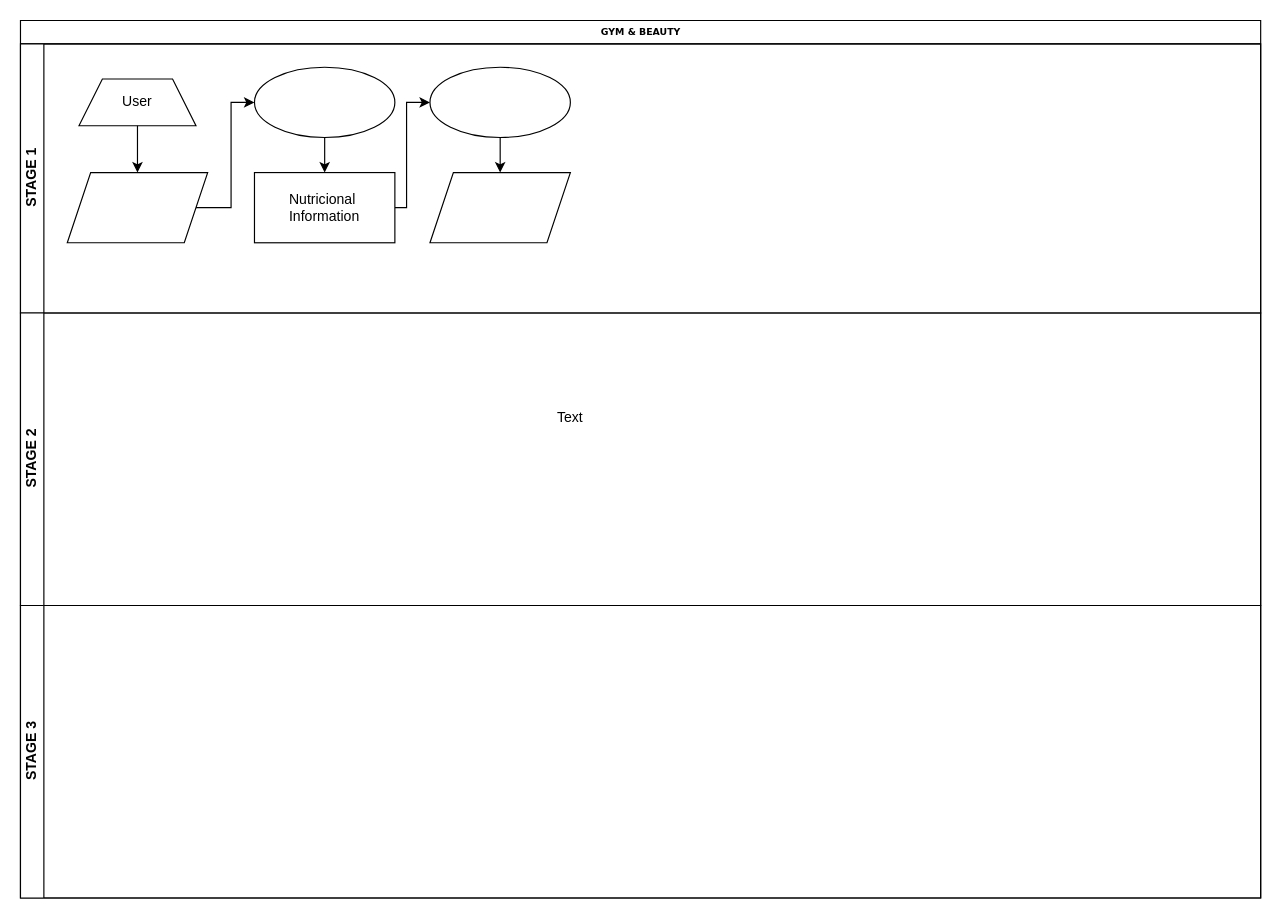
Some shapes in this 1281 by 918 pixel diagram are drawn without their labels. The centre of each missing label's shape, as x and y in pixels:
Biometric Information: (x=324, y=101)
Carge Pesonel Information: (x=137, y=207)
Selección Establecimiento: (x=499, y=101)
